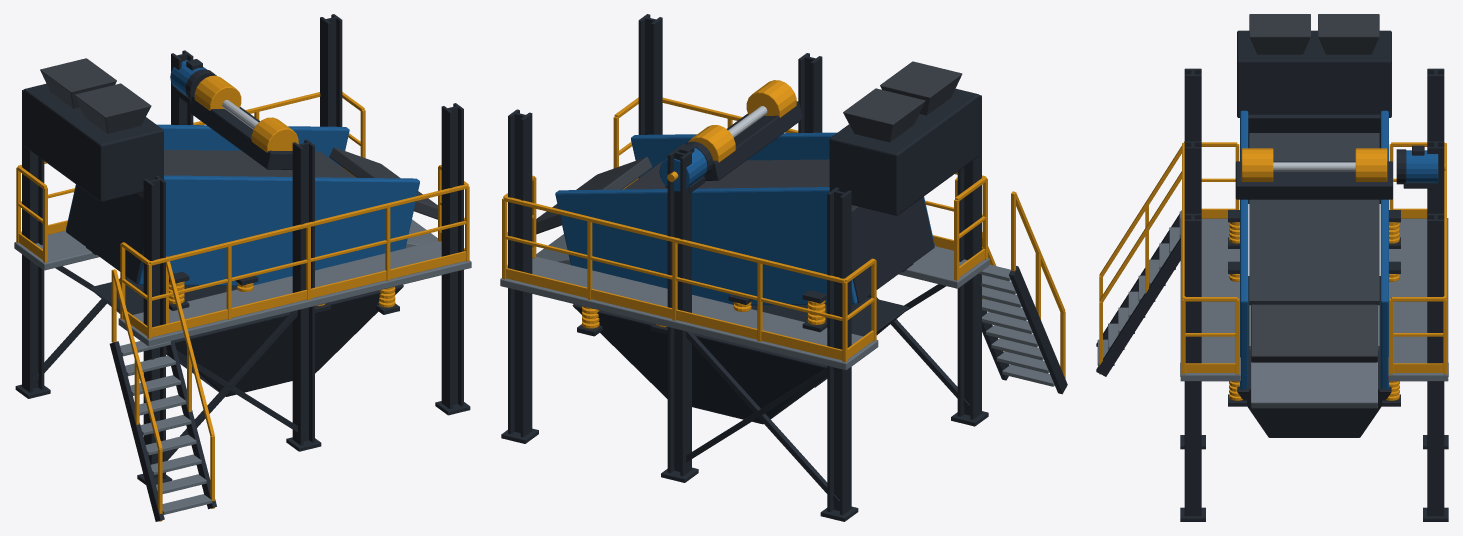
Rendered from central_sizing_screen_ss101.glb.
3 views of the same model, side by side, from view 1: azimuth 30°, elevation 25°; view 2: azimuth 150°, elevation 25°; view 3: azimuth 270°, elevation 25° (orthographic). The views are drawn at different scales.
Parts seen in each view (by area): view 1: SS101_SidePlateL, SS101_FinesHopper, SS101_FeedBox, SS101_WalkL_Deck, SS101_BackPlate, SS101_Deck1_Coarse, SS101_Col_3_FlangeF, SS101_Col_2_FlangeF, SS101_WalkL_RailS_ToeBoard, SS101_SidePlateR, SS101_FeedInletA, SS101_Col_4_FlangeF (+29 smaller); view 2: SS101_SidePlateR, SS101_FinesHopper, SS101_FeedBox, SS101_WalkR_Deck, SS101_BackPlate, SS101_Col_6_FlangeF, SS101_WalkR_RailN_ToeBoard, SS101_Deck1_Coarse, SS101_Col_5_FlangeF, SS101_Col_4_FlangeF, SS101_SidePlateL, SS101_FeedInletB (+27 smaller); view 3: SS101_Deck1_Coarse, SS101_FeedBox, SS101_OversizeChute, SS101_MidFeedLip, SS101_WalkL_Deck, SS101_WalkR_Deck, SS101_Col_3_FlangeB, SS101_Col_6_FlangeB, SS101_DriveBridge, SS101_FinesHopper, SS101_BackPlate, SS101_FeedInletA (+19 smaller).
Part boxes in pixels (<box>): SS101_SidePlateL: <box>138,175,419,286</box>; SS101_FinesHopper: <box>89,278,403,396</box>; SS101_FeedBox: <box>24,83,163,202</box>; SS101_WalkL_Deck: <box>118,240,471,346</box>; SS101_BackPlate: <box>66,185,143,283</box>; SS101_Deck1_Coarse: <box>137,149,355,198</box>; SS101_Col_3_FlangeF: <box>441,106,452,408</box>; SS101_Col_2_FlangeF: <box>292,142,303,445</box>; SS101_WalkL_RailS_ToeBoard: <box>152,251,466,337</box>; SS101_SidePlateR: <box>66,124,349,230</box>; SS101_FeedInletA: <box>74,83,151,133</box>; SS101_Col_4_FlangeF: <box>22,89,32,392</box>; SS101_SidePlateR: <box>555,187,857,305</box>; SS101_FinesHopper: <box>572,297,909,424</box>; SS101_FeedBox: <box>829,88,979,215</box>; SS101_WalkR_Deck: <box>500,256,878,370</box>; SS101_BackPlate: <box>851,197,934,302</box>; SS101_Col_6_FlangeF: <box>520,112,532,437</box>; SS101_WalkR_RailN_ToeBoard: <box>506,268,842,360</box>; SS101_Deck1_Coarse: <box>624,159,858,211</box>; SS101_Col_5_FlangeF: <box>680,151,691,476</box>; SS101_Col_4_FlangeF: <box>840,190,851,515</box>; SS101_SidePlateL: <box>631,132,934,246</box>; SS101_FeedInletB: <box>843,88,925,142</box>; SS101_Deck1_Coarse: <box>1249,133,1379,305</box>; SS101_FeedBox: <box>1237,30,1391,117</box>; SS101_OversizeChute: <box>1251,304,1377,362</box>; SS101_MidFeedLip: <box>1251,362,1377,408</box>; SS101_WalkL_Deck: <box>1180,218,1240,381</box>; SS101_WalkR_Deck: <box>1388,218,1448,381</box>; SS101_Col_3_FlangeB: <box>1184,219,1201,516</box>; SS101_Col_6_FlangeB: <box>1427,219,1444,516</box>; SS101_DriveBridge: <box>1235,161,1392,199</box>; SS101_FinesHopper: <box>1237,276,1391,437</box>; SS101_BackPlate: <box>1248,114,1380,203</box>; SS101_FeedInletA: <box>1249,14,1310,54</box>.
Bounding box in the file's own units: 5.11 × 4.58 × 4.21.
